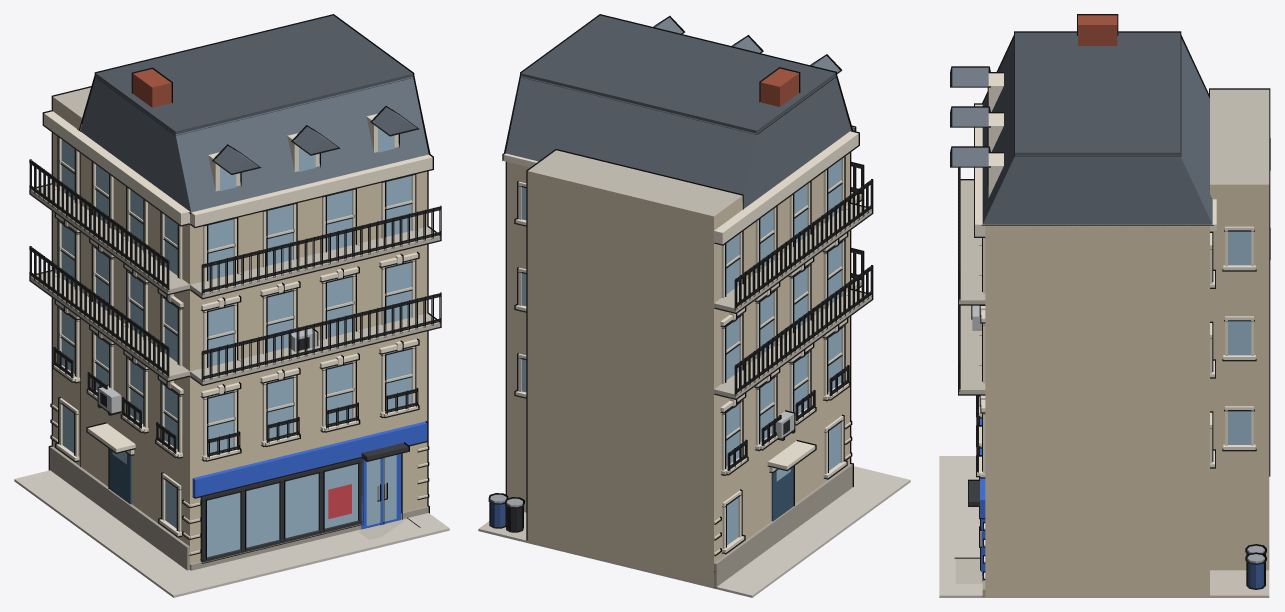
File: Blok_kose_4k_1.fbx
3 renders of one model, left to right at view 1: azimuth 30°, elevation 25°; view 2: azimuth 150°, elevation 25°; view 3: azimuth 270°, elevation 25°, orthographic. The views are drawn at different scales.
Visible parts, largest first — view 1: Blok_kose_4k_1; view 2: Blok_kose_4k_1; view 3: Blok_kose_4k_1.
Part boxes in pixels (x1,y1,x2,y2): Blok_kose_4k_1: (14,14,449,597); Blok_kose_4k_1: (478,14,910,597); Blok_kose_4k_1: (939,14,1270,597).
Bounding box in the file's own units: 10.05 × 15.68 × 10.05.
